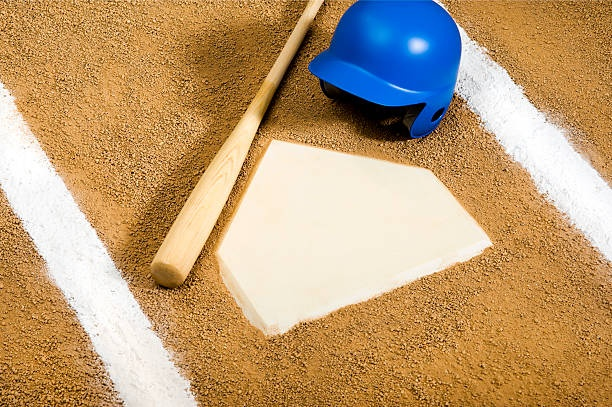bita: (143, 1, 323, 287)
